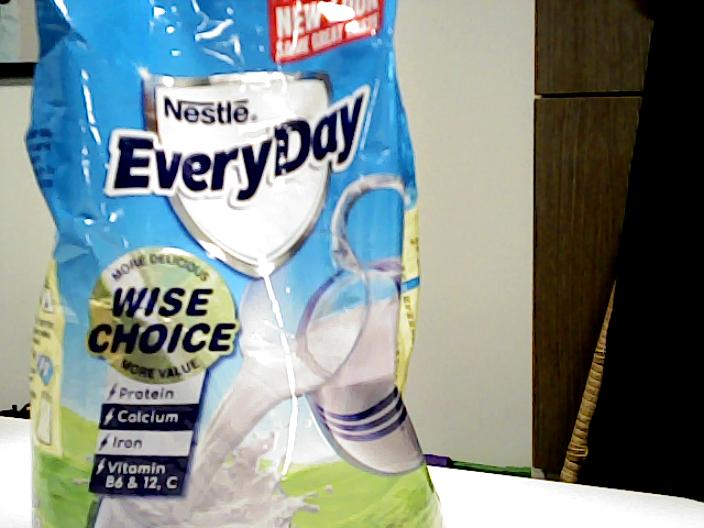Adult_Milk_600-699g_Halal_NonHealthy: (27, 1, 432, 528)
